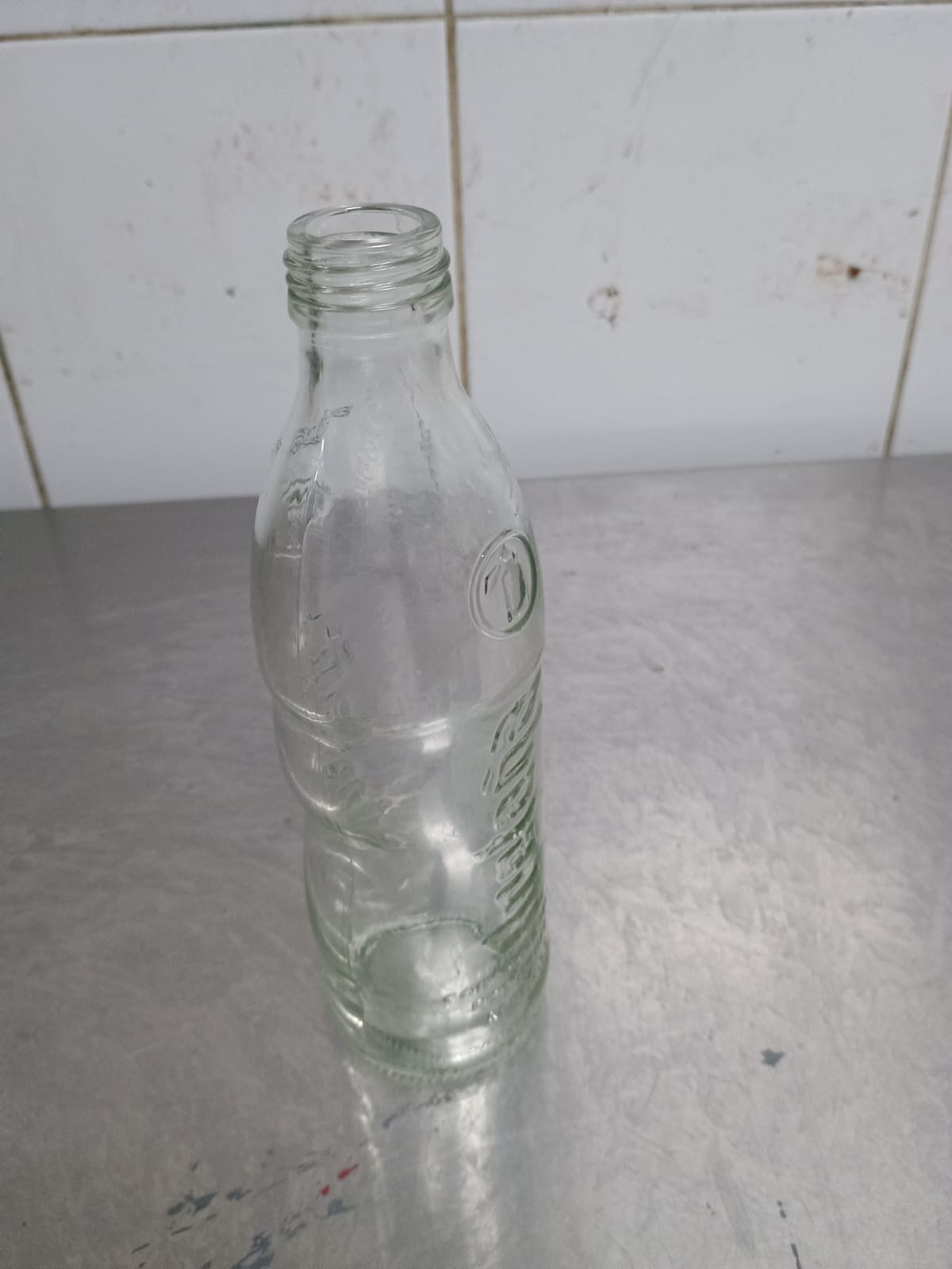Vidrio: (246, 200, 549, 1071)
